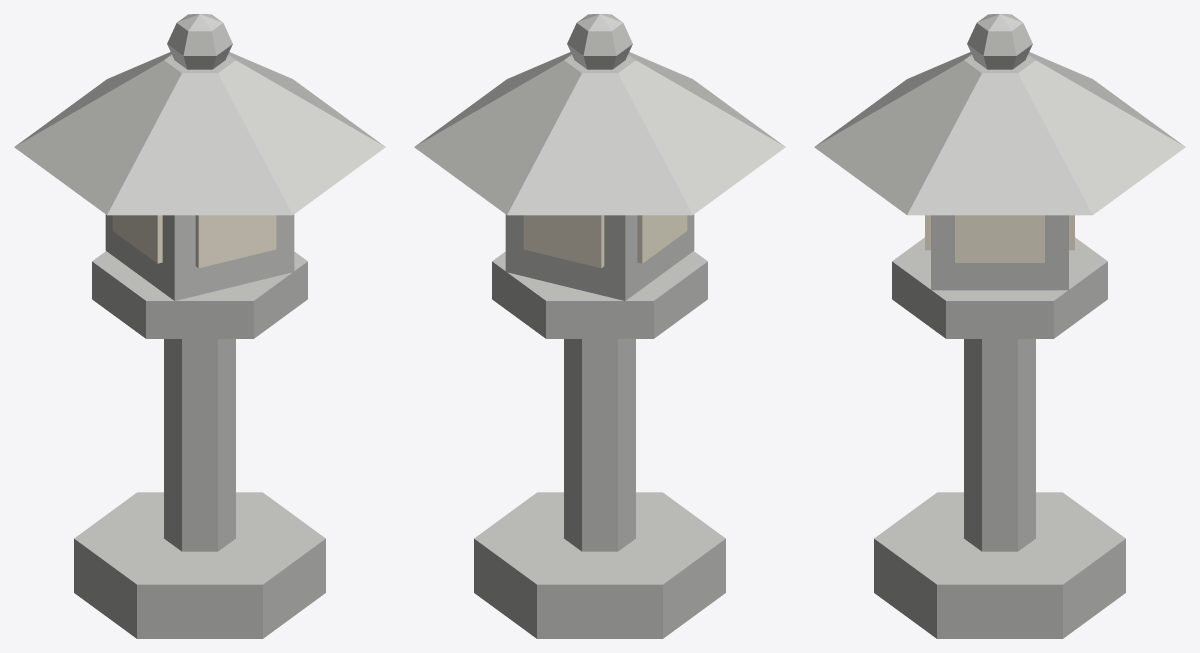
File: cn_stone_lantern.glb
The picture shows the model from 3 angles, left to right: view 1: azimuth 30°, elevation 25°; view 2: azimuth 150°, elevation 25°; view 3: azimuth 270°, elevation 25°; orthographic projection.
Visible parts, largest first — view 1: cn_stone_lantern; view 2: cn_stone_lantern; view 3: cn_stone_lantern.
Boxes of the visible parts, box(x1,y1,x2,y2) form: cn_stone_lantern: box(14, 14, 385, 638); cn_stone_lantern: box(414, 14, 785, 638); cn_stone_lantern: box(814, 14, 1185, 638).
Size of the model in its own units: 1.07 by 2.13 by 1.24.
